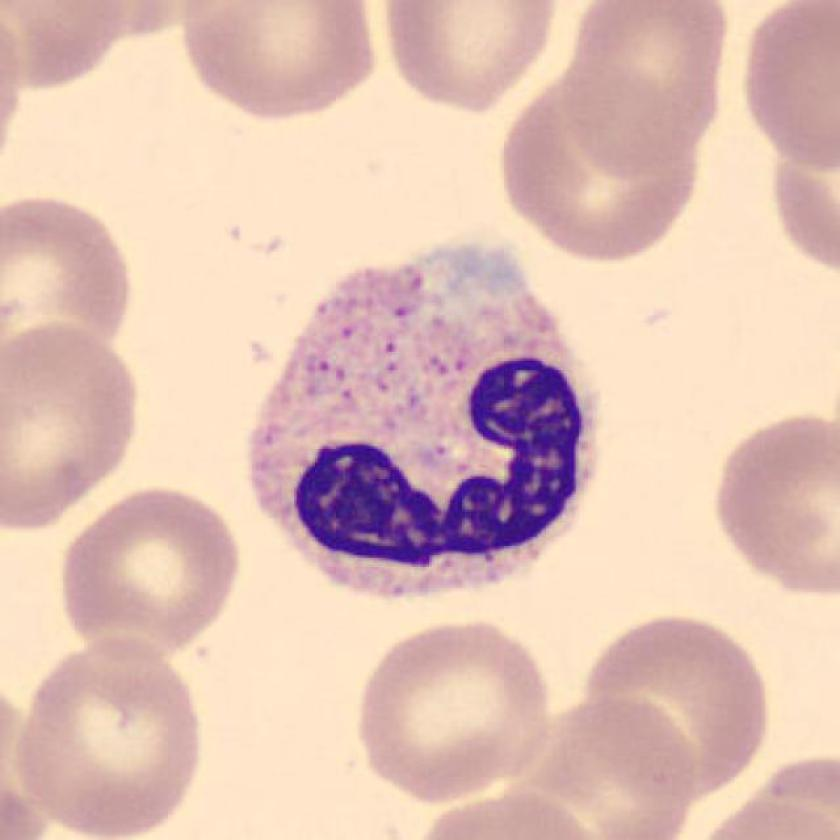neutrophil: (249, 259, 603, 600)
